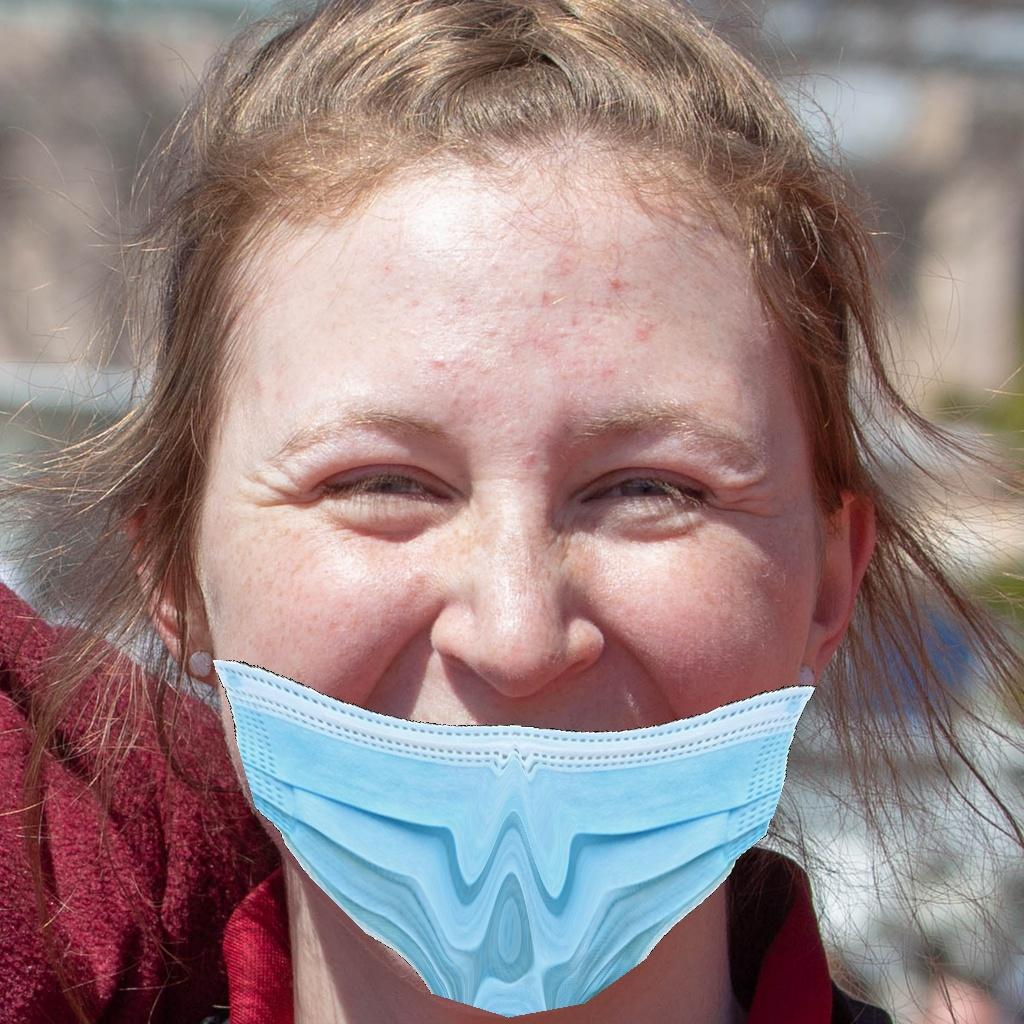Máscara Incorreta: (196, 278, 834, 975)
